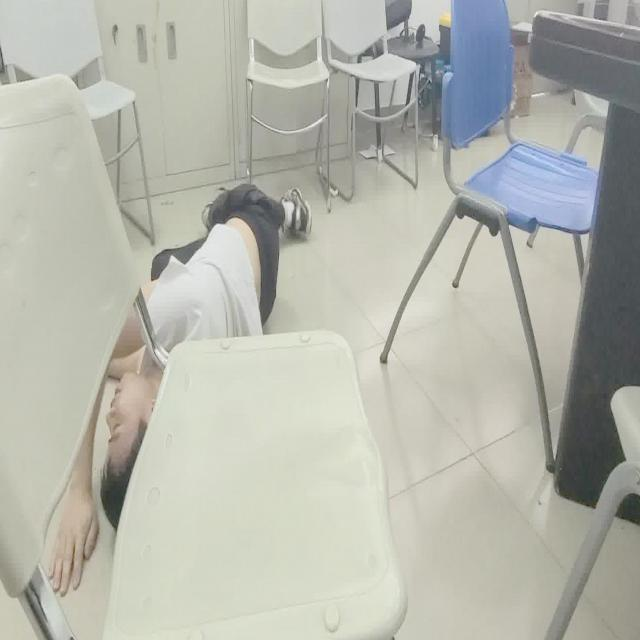fall: (48, 178, 314, 602)
